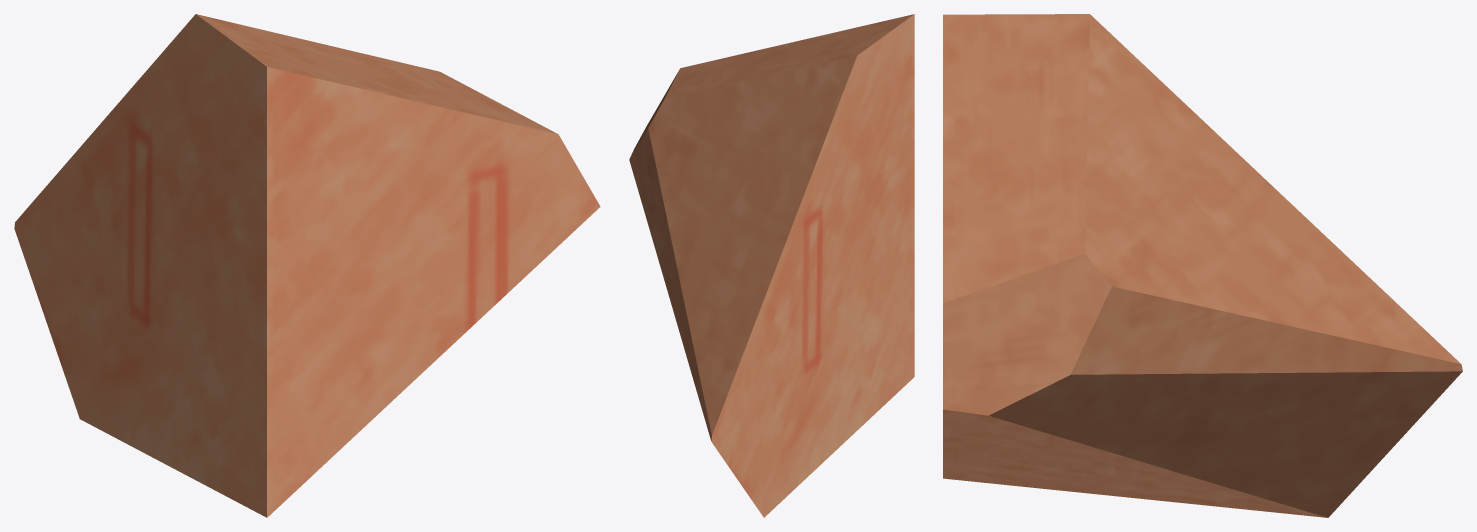
File: townwall_tower_s09.fbx
The picture shows the model from 3 angles, left to right: view 1: azimuth 30°, elevation 25°; view 2: azimuth 150°, elevation 25°; view 3: azimuth 270°, elevation 25°; orthographic projection. The views are drawn at different scales.
Visible parts, largest first — view 1: townwall_tower_s09; view 2: townwall_tower_s09; view 3: townwall_tower_s09.
Part boxes in pixels (left/top/right/bottom): townwall_tower_s09: left=14, top=14, right=600, bottom=517; townwall_tower_s09: left=629, top=14, right=914, bottom=517; townwall_tower_s09: left=943, top=14, right=1462, bottom=517.
Size of the model in its own units: 5 by 7.02 by 6.56.
